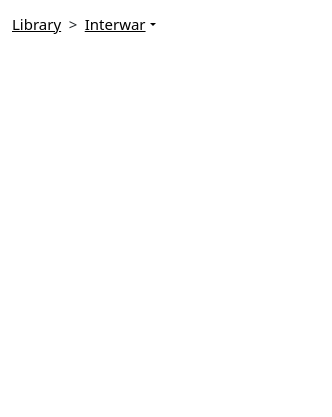
Test: breadcrumb navigation and its switcher use plain period names
Click the button at (153, 25), box [149,14,157,36]
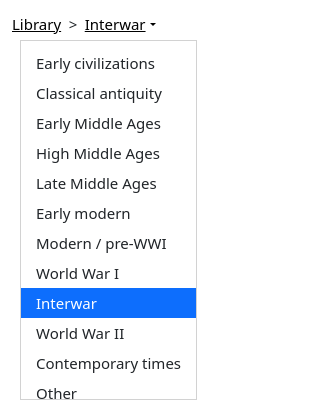
Check: the link "Early modern" is shown, box [36,203,131,223]
